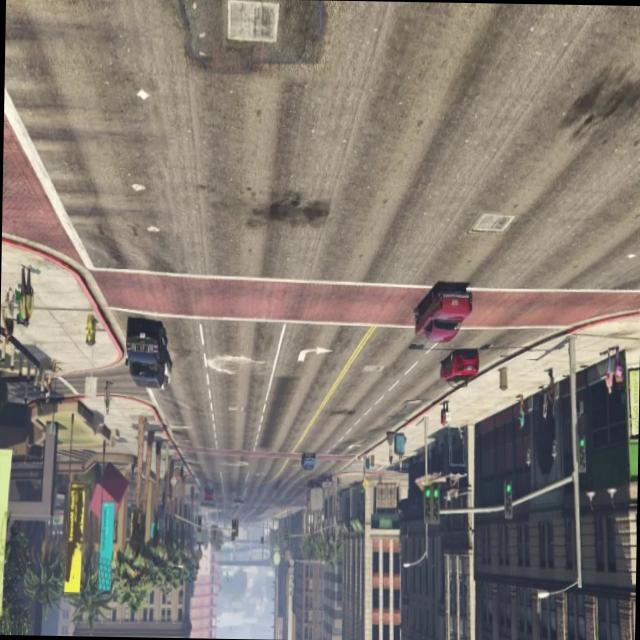Green-Signal: (418, 466, 450, 535), (571, 428, 591, 480), (502, 470, 516, 528)
